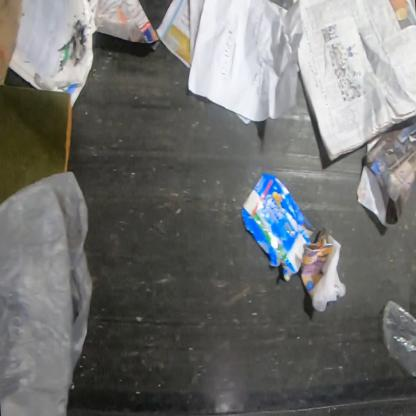cardboard: (0, 84, 72, 206), (240, 172, 315, 282), (1, 0, 24, 84)
soft_plastic: (0, 172, 94, 416), (383, 298, 415, 379)
